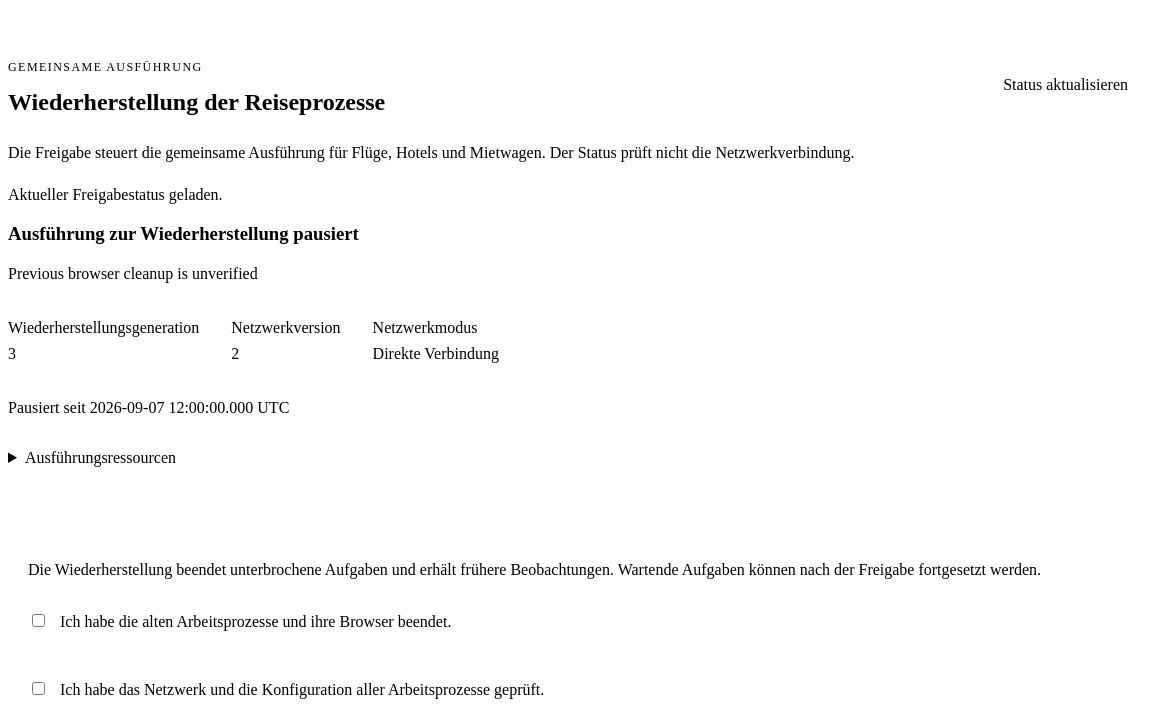
Test: explicit administrator travel recovery › requires both operator checks in de and submits only the current generation
Expected: the heading "Ausführung zur Wiederherstellung pausiert" is shown, [8,223,359,244]
Click the checkbox labelled "Ich habe die alten Arbeitsprozesse und ihre Browser beendet." at {"x": 38, "y": 621}, box [32,614,45,627]
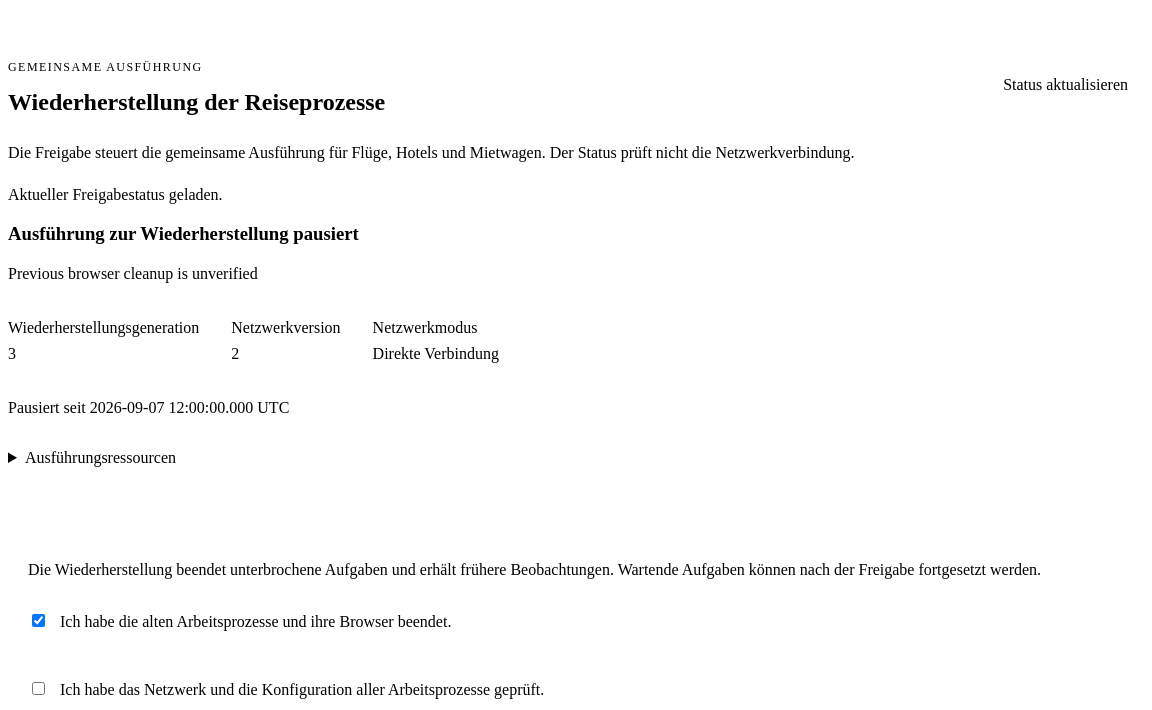
Click the checkbox labelled "Ich habe das Netzwerk und die Konfiguration aller Arbeitsprozesse geprüft." at {"x": 38, "y": 689}, box [32,682,45,695]
(page scrolled)
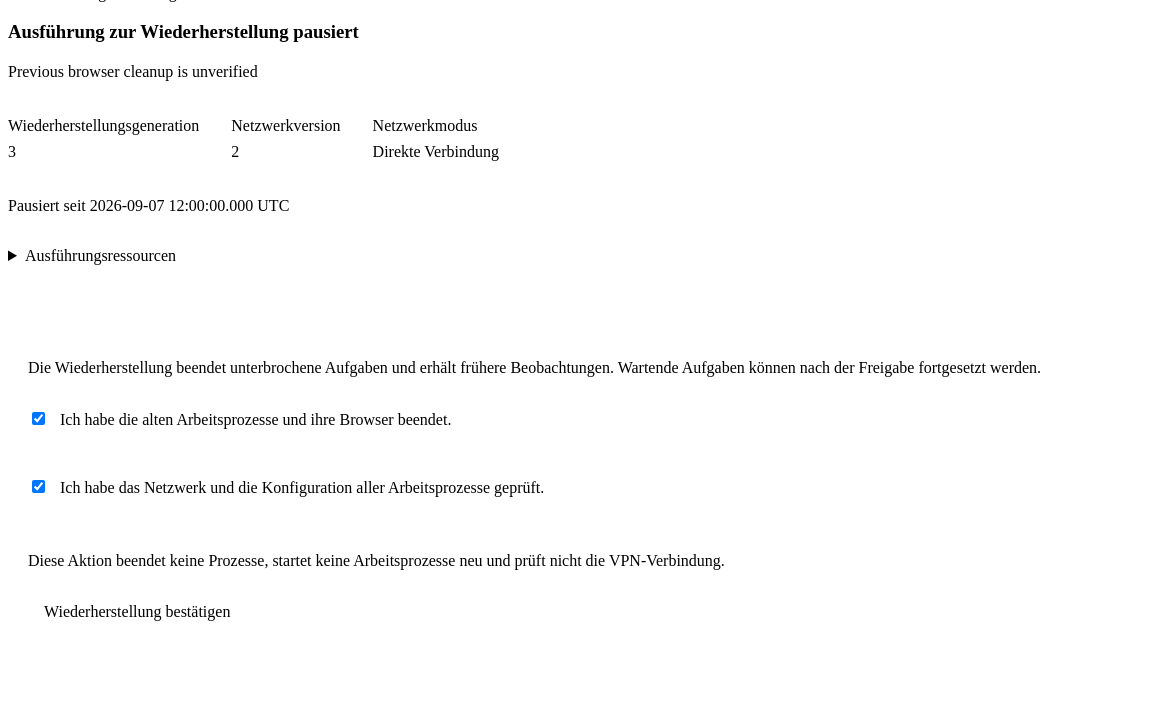
Click the button "Wiederherstellung bestätigen" at {"x": 137, "y": 612}, box [28,590,246,634]
(page scrolled)
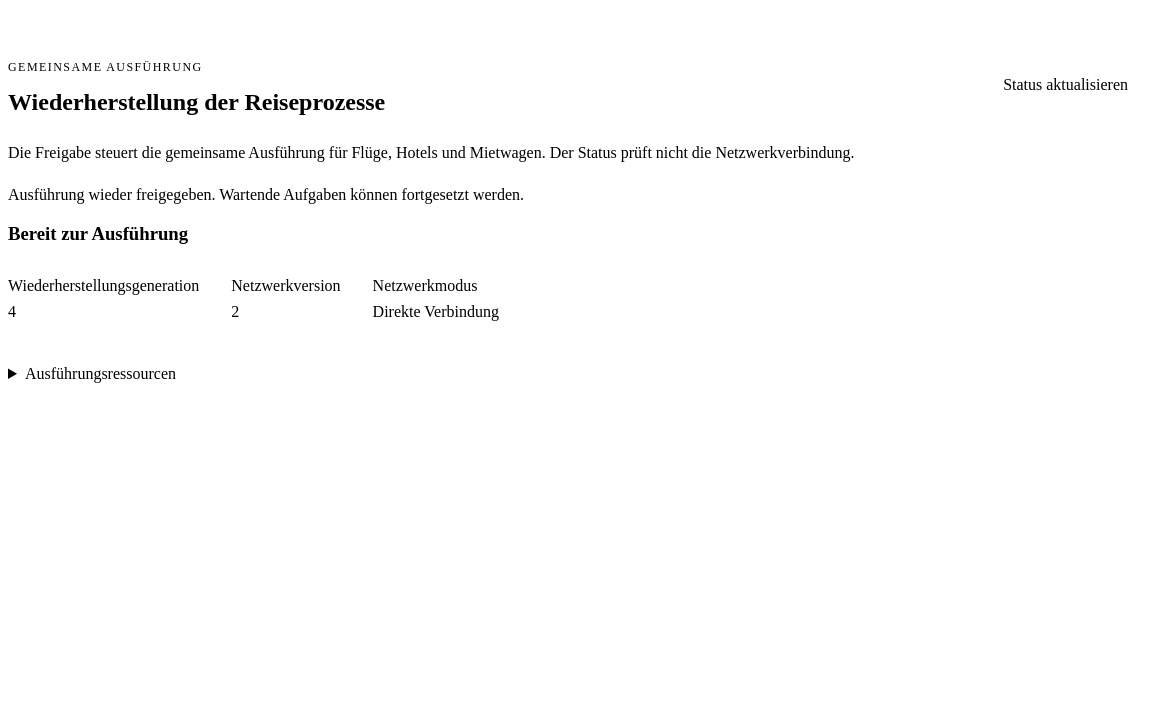
Now the text "Ausführung wieder freigegeben. Wartende Aufgaben können fortgesetzt werden." is shown, box [8,186,524,203]
Now the checkbox is gone
